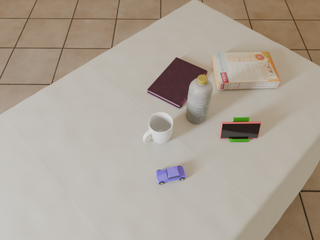book: (147, 57, 207, 108)
bottle: (186, 75, 213, 124)
box: (211, 52, 281, 90)
cup: (143, 112, 173, 144)
phone: (220, 122, 261, 138)
toy_car: (155, 166, 185, 184)
